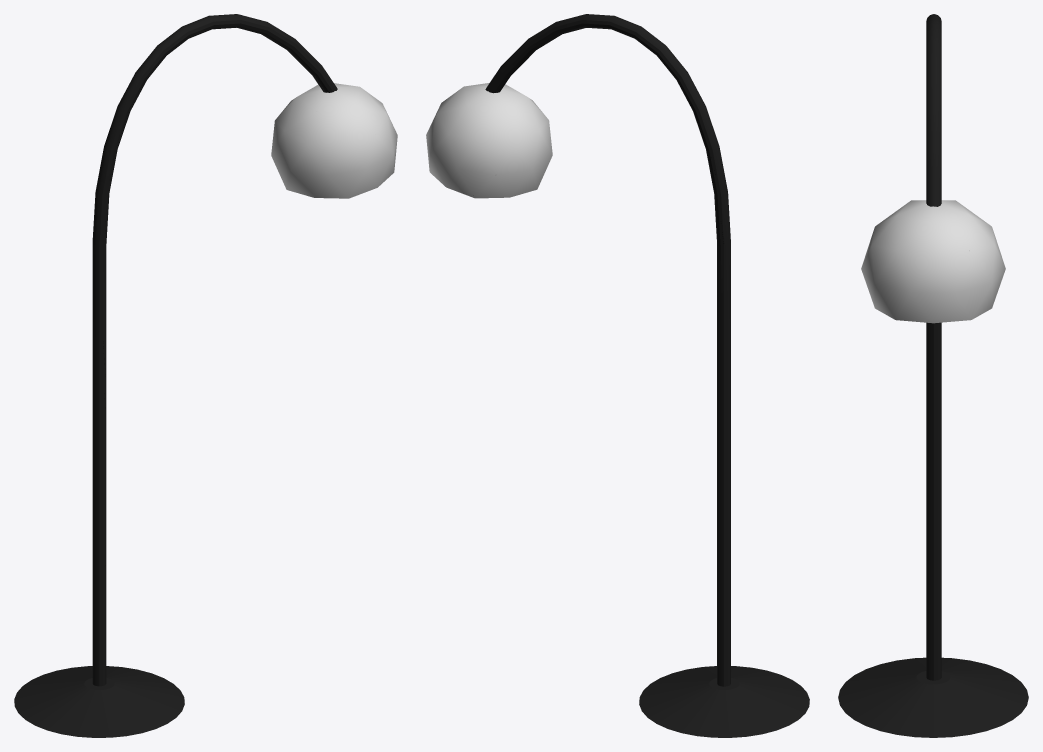
The model's file is Lampara de pie.fbx.
The picture shows the model from 3 angles, left to right: view 1: azimuth 30°, elevation 25°; view 2: azimuth 150°, elevation 25°; view 3: azimuth 270°, elevation 25°; orthographic projection. The views are drawn at different scales.
Visible parts, largest first — view 1: lampara; view 2: lampara; view 3: lampara.
Part boxes in pixels (left/top/right/bottom): lampara: left=14, top=14, right=397, bottom=737; lampara: left=426, top=14, right=809, bottom=737; lampara: left=838, top=14, right=1028, bottom=737.
Bounding box in the file's own units: 120 × 208 × 48.89.
